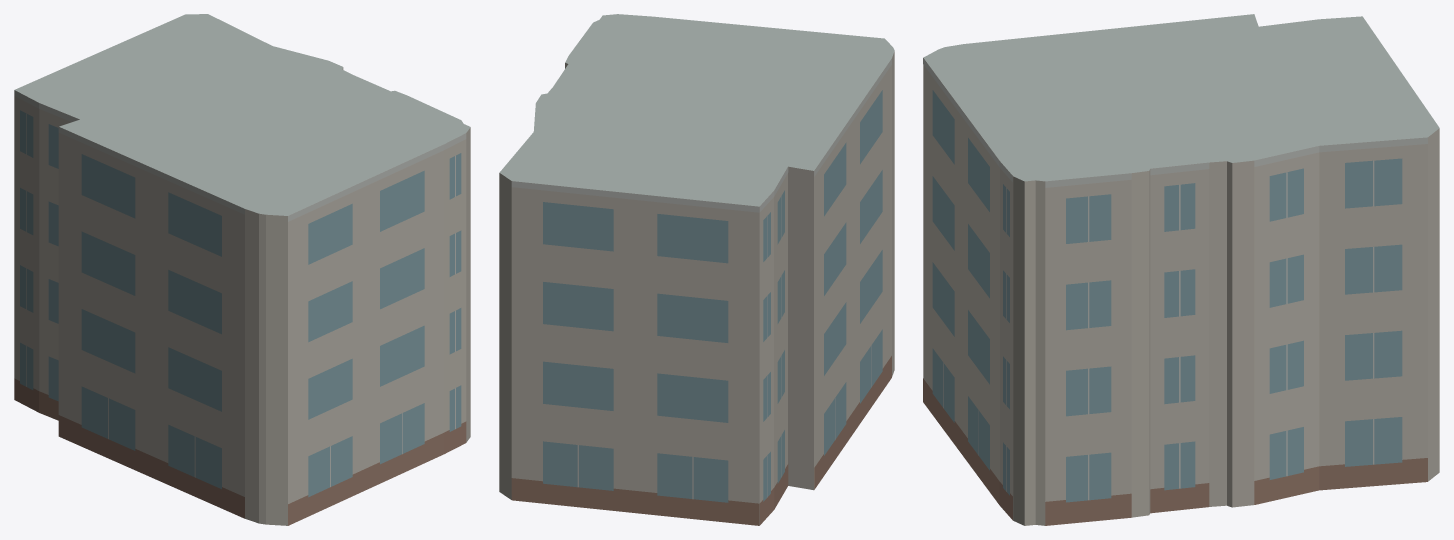
Rendered from survey-upis-32680231.glb.
The picture shows the model from 3 angles, left to right: view 1: azimuth 30°, elevation 25°; view 2: azimuth 150°, elevation 25°; view 3: azimuth 270°, elevation 25°; orthographic projection. The views are drawn at different scales.
Visible parts, largest first — view 1: survey-upis-32680231.tmp; view 2: survey-upis-32680231.tmp; view 3: survey-upis-32680231.tmp.
Part boxes in pixels (bbox=[...]): survey-upis-32680231.tmp: bbox=[14, 14, 470, 525]; survey-upis-32680231.tmp: bbox=[499, 14, 894, 525]; survey-upis-32680231.tmp: bbox=[923, 14, 1439, 525].
Bounding box in the file's own units: 13.35 × 12.8 × 17.41.
